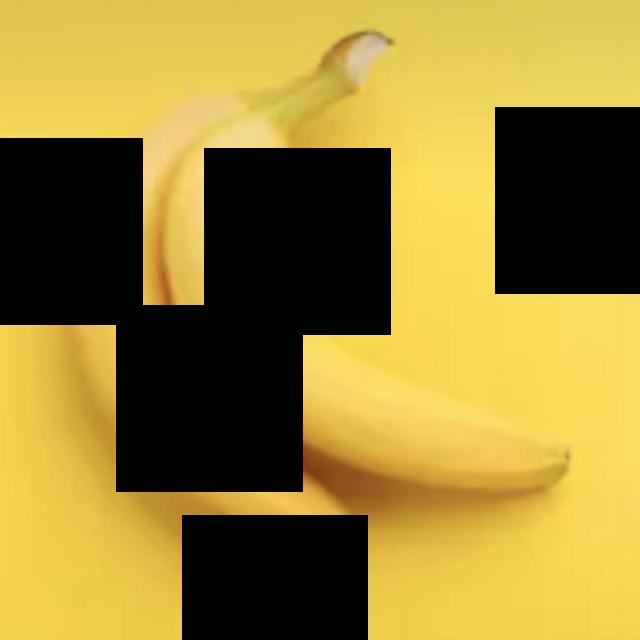banana: (0, 12, 569, 598), (170, 36, 601, 525)
